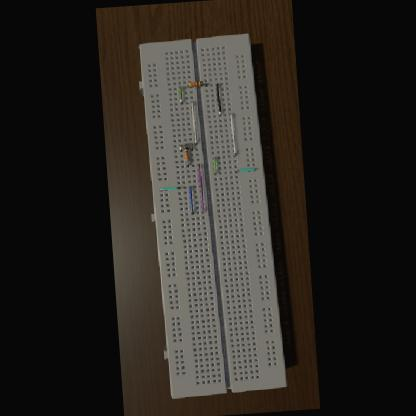breadboard: (136, 32, 287, 398)
resistor: (190, 80, 204, 87), (184, 146, 190, 161)
wire: (198, 164, 204, 212), (192, 100, 198, 144), (231, 112, 237, 156), (217, 82, 222, 116), (189, 185, 194, 213), (160, 186, 180, 190), (236, 167, 256, 171), (214, 157, 217, 174), (180, 86, 182, 104), (180, 144, 182, 151), (188, 160, 190, 166), (204, 82, 207, 86), (186, 84, 189, 87), (191, 142, 192, 150), (186, 144, 187, 146)
